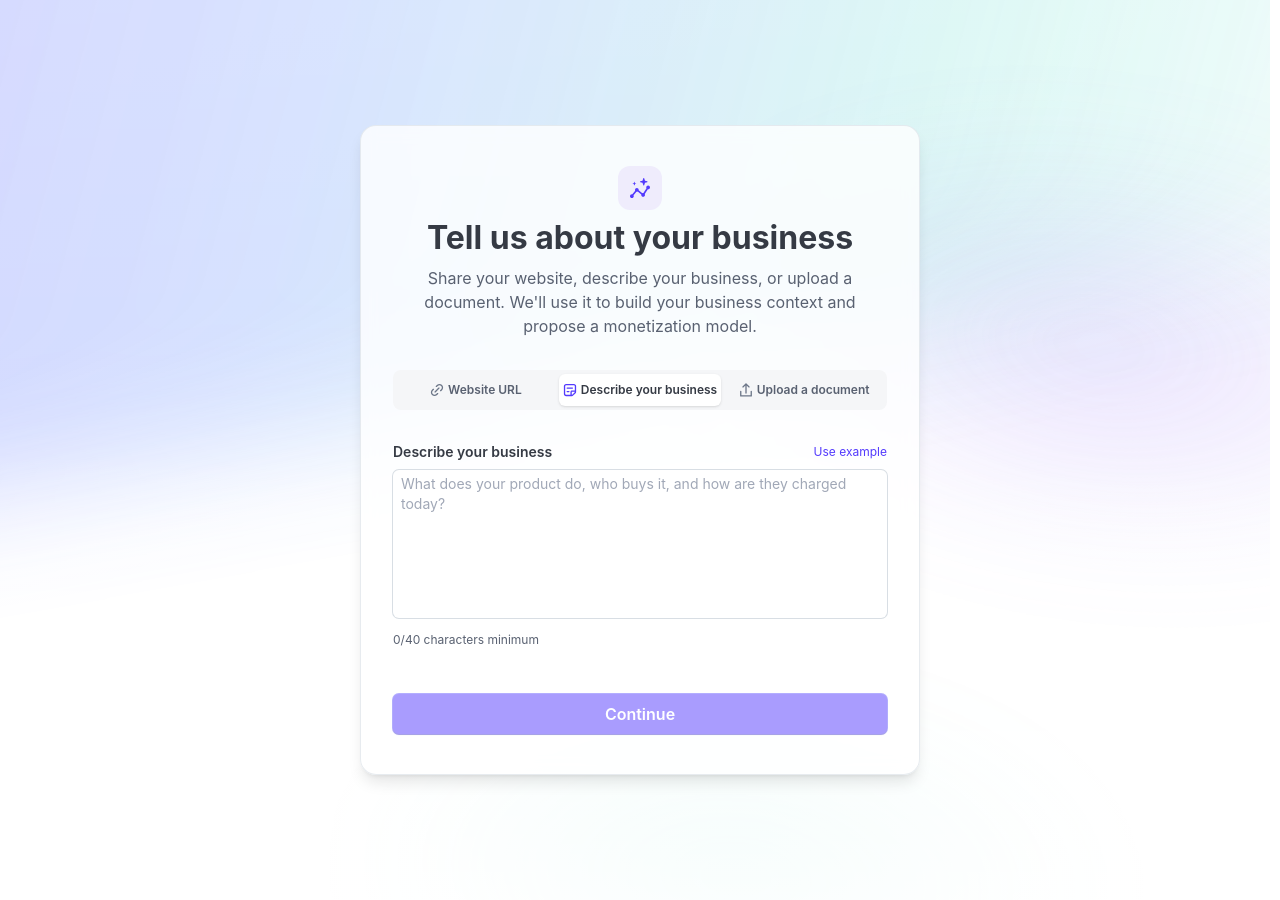
Test: IntroScreen › shows a validation error for an invalid URL after the field is touched
Click the tab "Website URL" at point(476, 390), box [397,374,555,406]
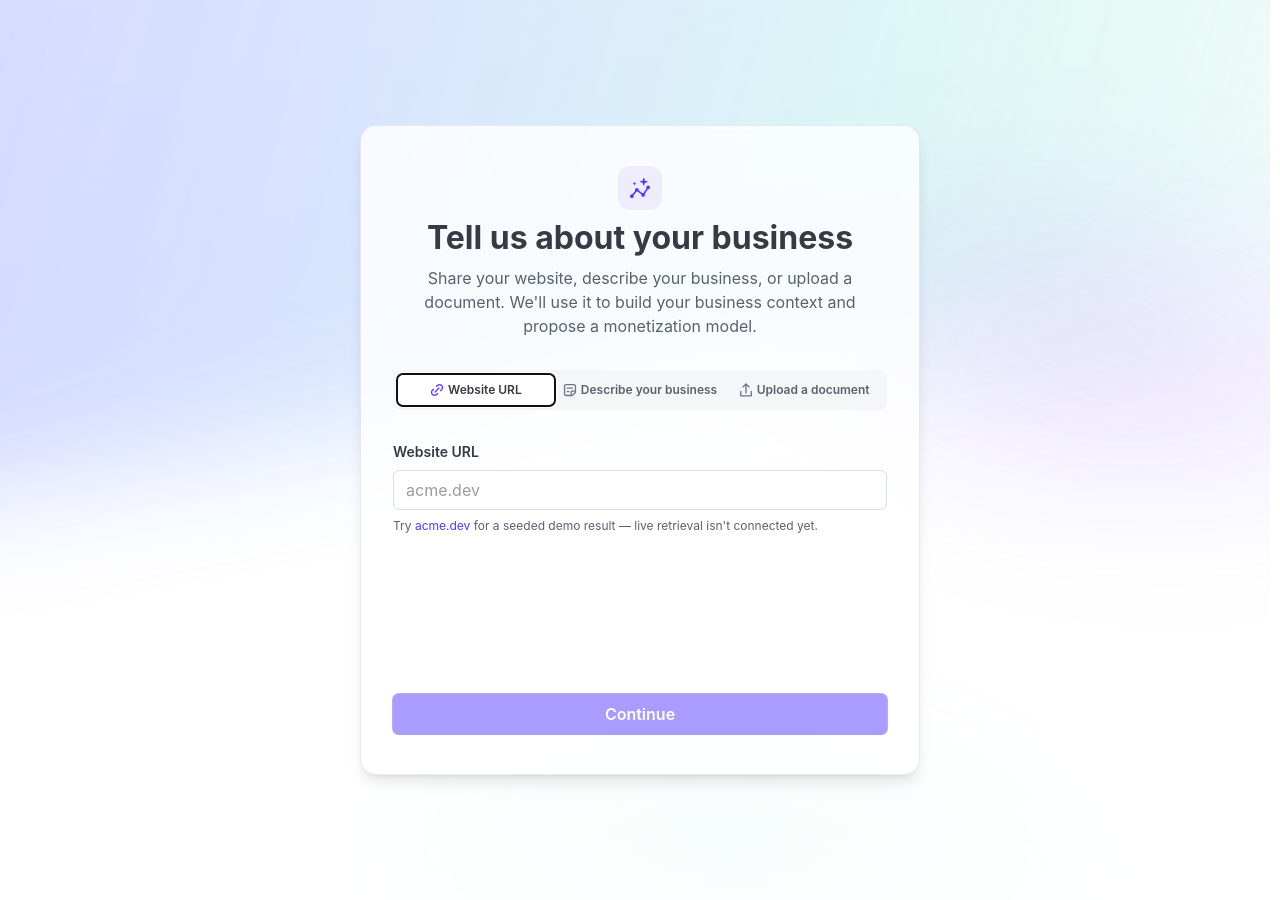
Type "not a url" into the field labelled "Website URL" at point(640, 490), box [393,470,887,510]
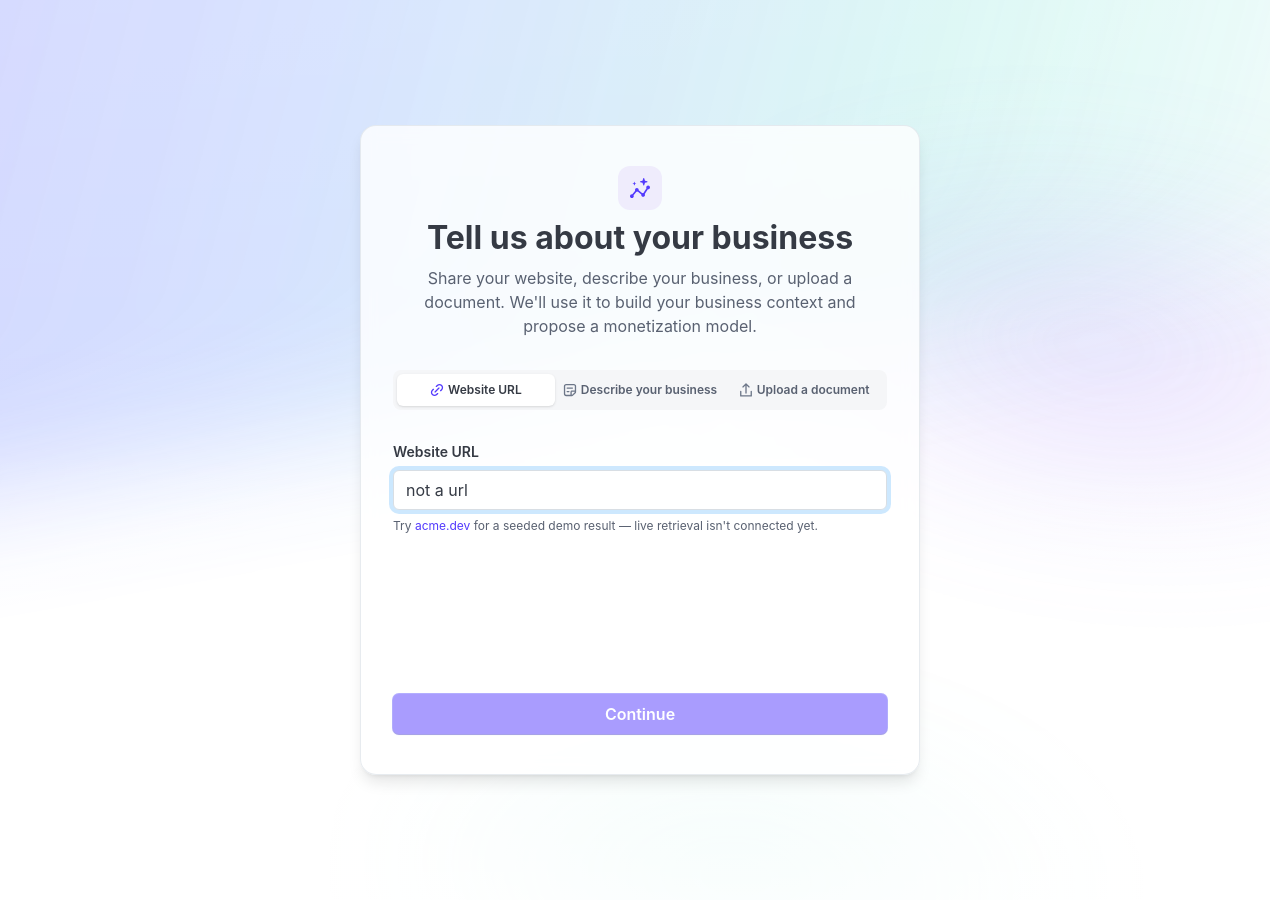
Press Tab
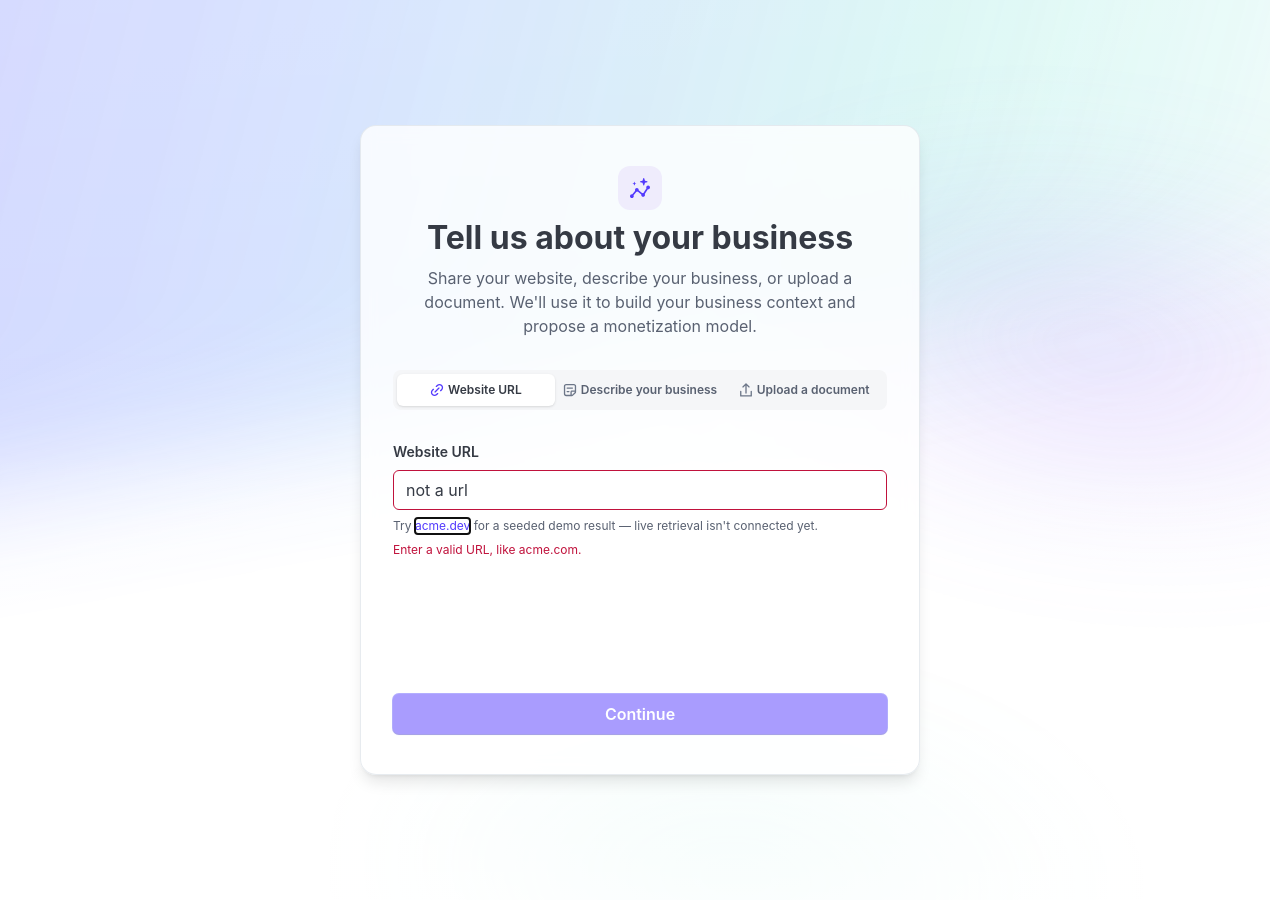
Expected: the button "Continue" is disabled, [393,694,887,734]
Expected: the message shows "Enter a valid URL", [393,542,581,557]
